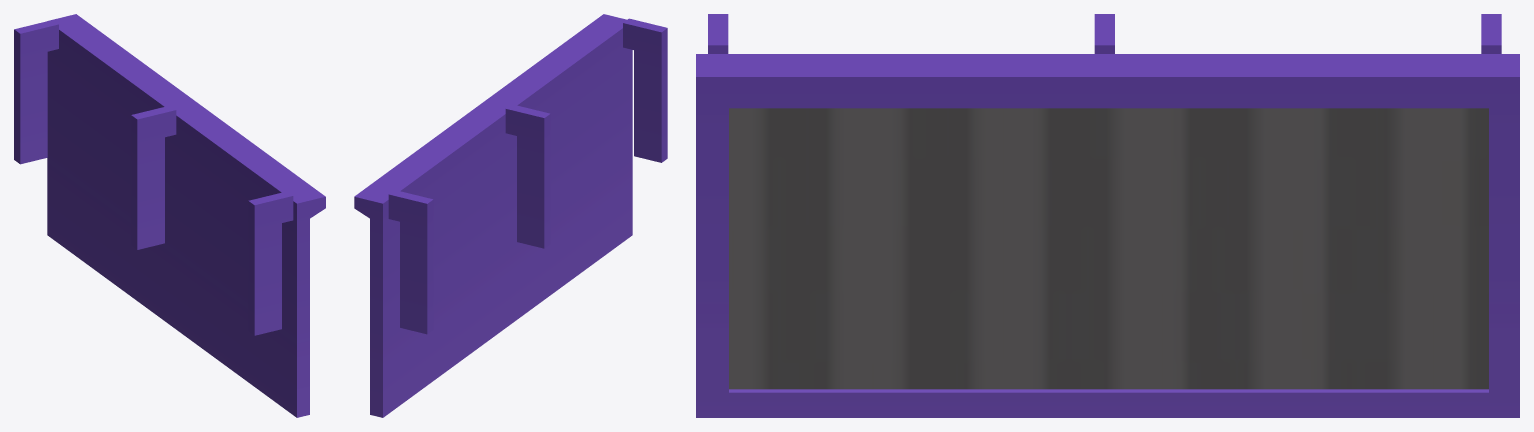
Rendered from SignProp_2_C_1.fbx.
The picture shows the model from 3 angles, left to right: view 1: azimuth 30°, elevation 25°; view 2: azimuth 150°, elevation 25°; view 3: azimuth 270°, elevation 25°; orthographic projection. The views are drawn at different scales.
Visible parts, largest first — view 1: SignProp_2_C_1; view 2: SignProp_2_C_1; view 3: SignProp_2_C_1.
Boxes of the visible parts, x1=… form: SignProp_2_C_1: x1=14, y1=14, x2=325, y2=417; SignProp_2_C_1: x1=354, y1=14, x2=667, y2=417; SignProp_2_C_1: x1=696, y1=14, x2=1519, y2=417.
Size of the model in its own units: 20.96 by 64.95 by 134.
